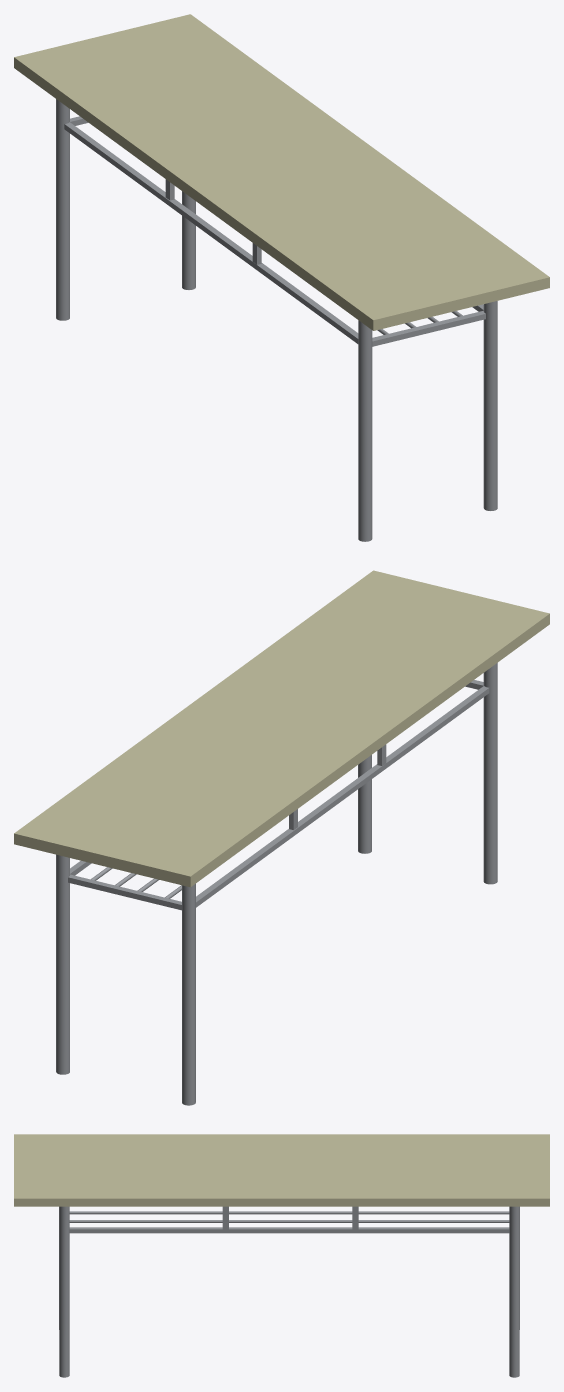
Rendered from 桌子-贴图版.fbx.
The picture shows the model from 3 angles, top to bottom: view 1: azimuth 30°, elevation 25°; view 2: azimuth 150°, elevation 25°; view 3: azimuth 270°, elevation 25°; orthographic projection. The views are drawn at different scales.
Parts seen in each view (by area): view 1: 立方体, 立方体_1, 圆柱_2, 圆柱, 圆柱_3, 圆柱_1; view 2: 立方体, 立方体_1, 圆柱_2, 圆柱_3, 圆柱_1, 圆柱; view 3: 立方体, 立方体_1, 圆柱_1, 圆柱, 圆柱_5, 圆柱_4.
Boxes of the visible parts, bbox=[...] form: 立方体: bbox=[14, 14, 549, 330]; 立方体_1: bbox=[64, 116, 485, 346]; 圆柱_2: bbox=[358, 320, 372, 541]; 圆柱: bbox=[483, 301, 497, 510]; 圆柱_3: bbox=[56, 99, 69, 320]; 圆柱_1: bbox=[182, 191, 195, 289]; 立方体: bbox=[14, 570, 549, 887]; 立方体_1: bbox=[68, 680, 489, 910]; 圆柱_2: bbox=[483, 663, 497, 884]; 圆柱_3: bbox=[182, 883, 195, 1105]; 圆柱_1: bbox=[56, 854, 69, 1074]; 圆柱: bbox=[358, 755, 371, 853]; 立方体: bbox=[14, 1134, 549, 1206]; 立方体_1: bbox=[69, 1227, 509, 1233]; 圆柱_1: bbox=[509, 1206, 519, 1377]; 圆柱: bbox=[59, 1206, 69, 1377]; 圆柱_5: bbox=[69, 1211, 509, 1214]; 圆柱_4: bbox=[69, 1220, 509, 1222].
Size of the model in its own units: 200 by 270 by 705.
